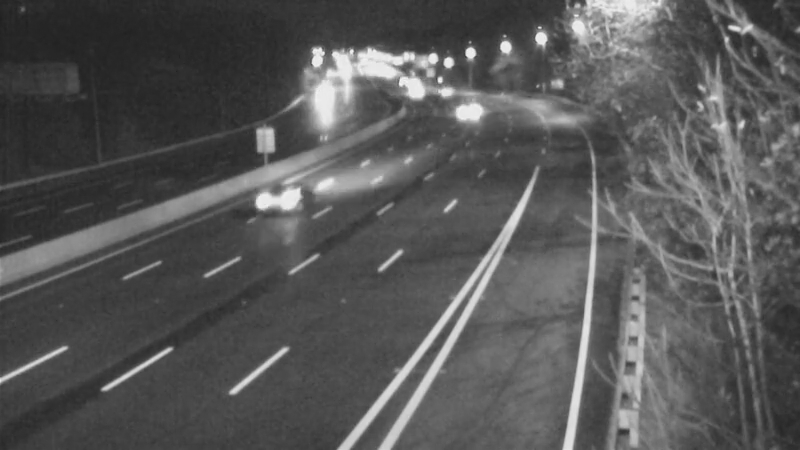vehicle: (247, 158, 327, 238), (425, 61, 475, 111), (390, 68, 440, 118), (436, 81, 486, 131), (294, 74, 344, 124)
